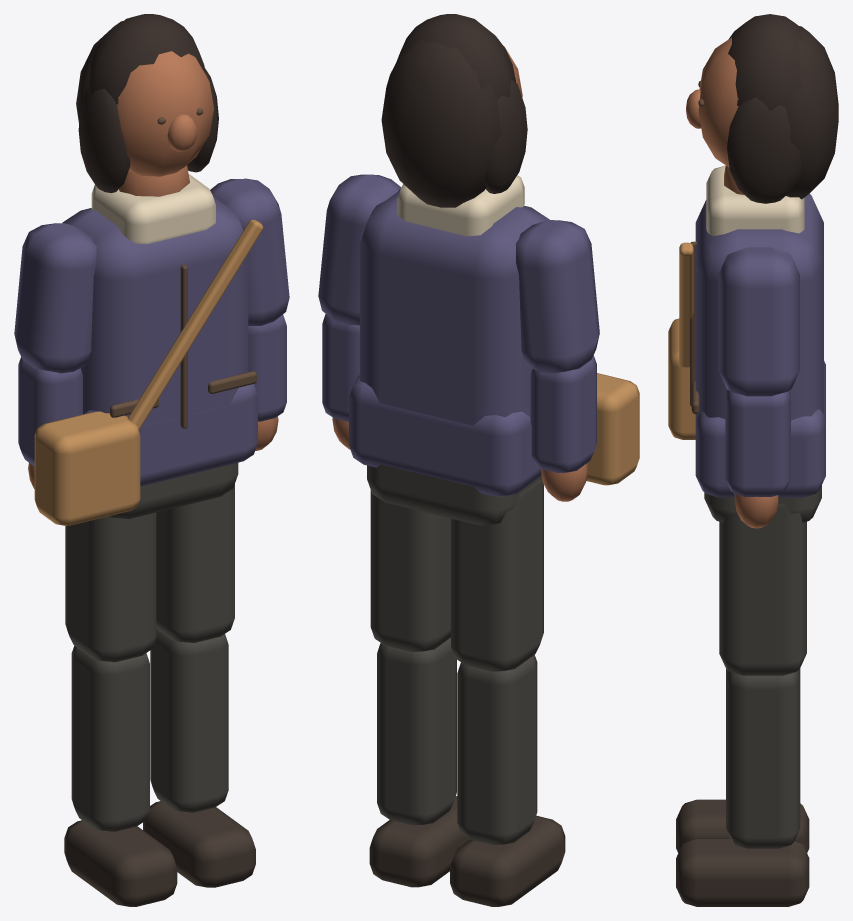
File: pedestrian-commuter.glb
The picture shows the model from 3 angles, left to right: view 1: azimuth 30°, elevation 25°; view 2: azimuth 150°, elevation 25°; view 3: azimuth 270°, elevation 25°; orthographic projection. The views are drawn at different scales.
Visible parts, largest first — view 1: upper-body, head, left-knee, right-knee, left-thigh, right-thigh, left-shoulder, left-ankle, right-ankle, right-shoulder, left-elbow, right-elbow (+1 smaller); view 2: upper-body, head, left-thigh, left-knee, right-knee, right-thigh, left-shoulder, left-elbow, left-ankle, right-shoulder, right-ankle, Harbor pedestrian commuter (+1 smaller); view 3: upper-body, head, right-thigh, right-knee, right-shoulder, right-ankle, right-elbow, left-ankle, Harbor pedestrian commuter.
Part boxes in pixels (x1,y1,x2,y2): upper-body: (34, 165, 263, 525); head: (76, 14, 218, 193); left-knee: (71, 646, 149, 831); right-knee: (150, 629, 228, 812); left-thigh: (65, 512, 156, 662); right-thigh: (156, 484, 234, 642); left-shoulder: (14, 223, 96, 373); left-ankle: (64, 820, 177, 906); right-ankle: (143, 801, 255, 887); right-shoulder: (210, 178, 289, 325); left-elbow: (18, 357, 82, 488); right-elbow: (248, 314, 286, 450); upper-body: (349, 175, 639, 496); head: (381, 14, 527, 207); left-thigh: (451, 480, 543, 671); left-knee: (457, 655, 537, 845); right-knee: (377, 637, 456, 825); right-thigh: (370, 490, 450, 651); left-shoulder: (516, 220, 599, 373); left-elbow: (530, 355, 596, 501); left-ankle: (450, 815, 565, 906); right-shoulder: (318, 174, 401, 325); right-ankle: (369, 796, 469, 887); Harbor pedestrian commuter: (367, 464, 543, 525); upper-body: (668, 165, 825, 497); head: (686, 14, 838, 203); right-thigh: (719, 504, 806, 675); right-knee: (726, 669, 800, 848); right-shoulder: (718, 247, 799, 396); right-ankle: (676, 838, 809, 906); right-elbow: (725, 389, 790, 528); left-ankle: (676, 799, 809, 852); Harbor pedestrian commuter: (704, 485, 821, 522).
Size of the model in its own units: 0.5831 by 1.78 by 0.3184.
